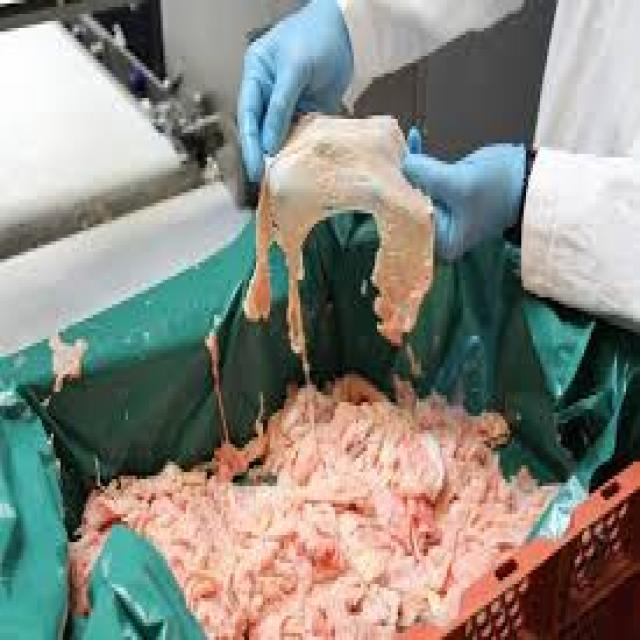Wet: (45, 375, 640, 640), (220, 85, 466, 380)
